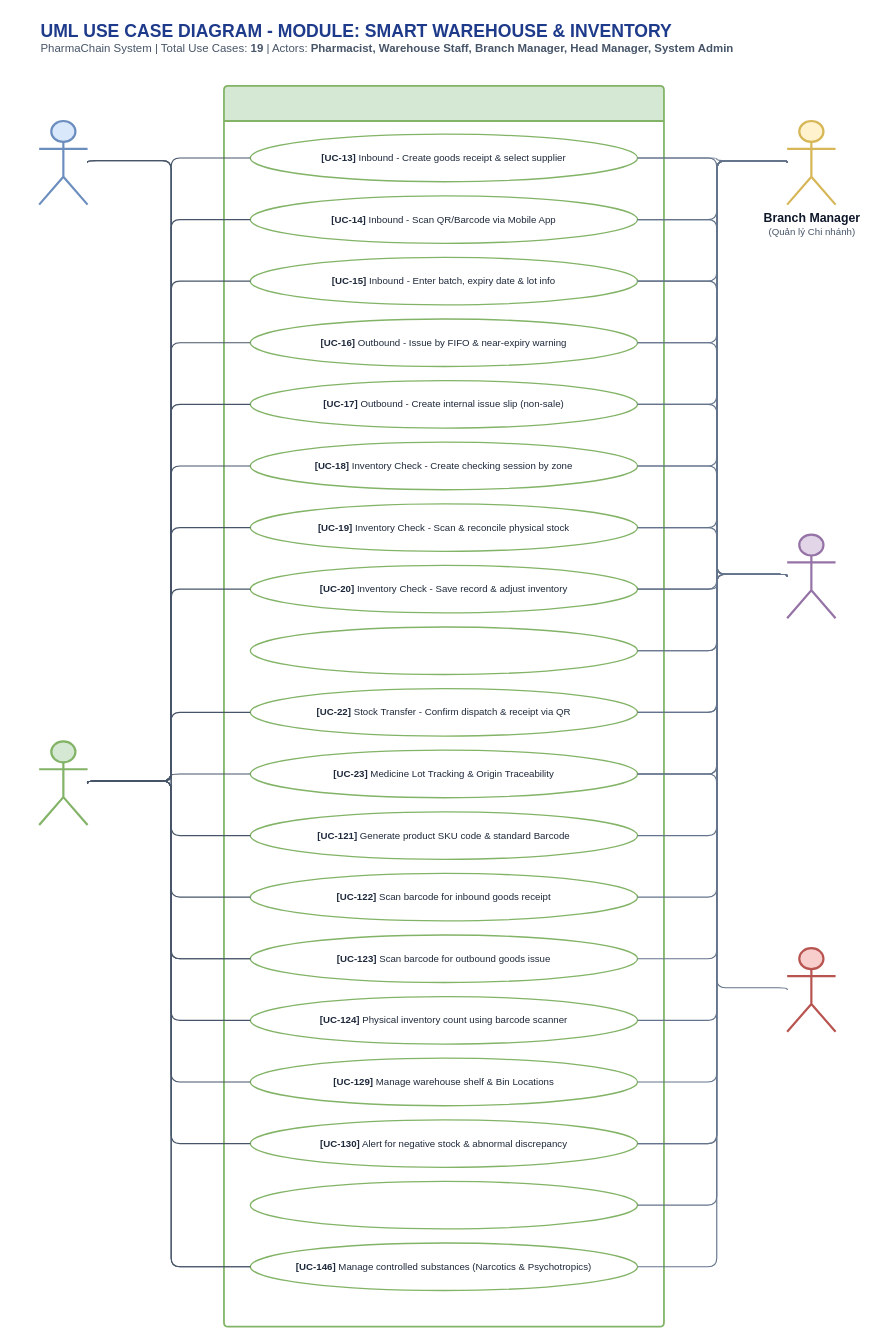
Some shapes in this 875 by 1342 pixel diagram are drawn without their labels. The box of each missing label's shape, as (x1, y1, x2, y2) in pixels:
[UC-131] Manage multi-unit conversion (Tablet - Blister - Box): (249, 1180, 638, 1229)
[UC-21] Stock Transfer - Create stock transfer request: (249, 626, 638, 675)
Head Manager (Quản lý Chuỗi/Tổng): (786, 533, 836, 619)
Pharmacist (Dược sĩ): (38, 120, 88, 205)
SMART WAREHOUSE & INVENTORY SUBSYSTEM: (223, 84, 664, 1327)
System Admin (Quản trị hệ thống): (786, 947, 836, 1033)
Warehouse Staff (Thủ kho): (38, 740, 88, 826)
